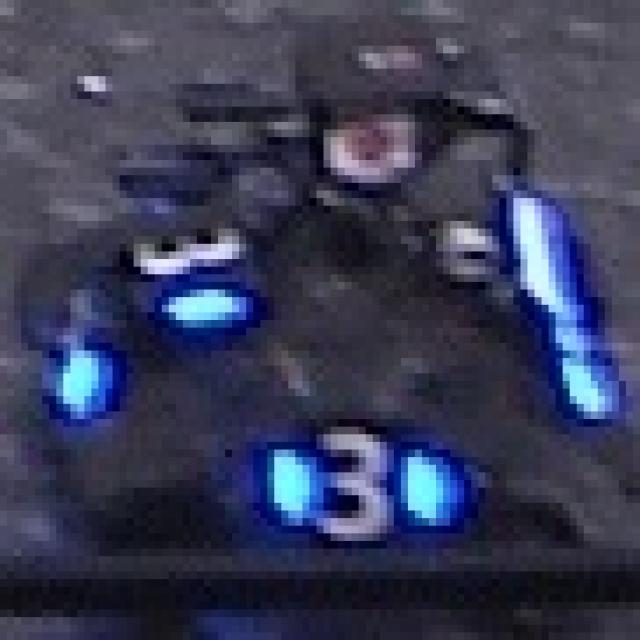B3: (274, 427, 450, 541)
